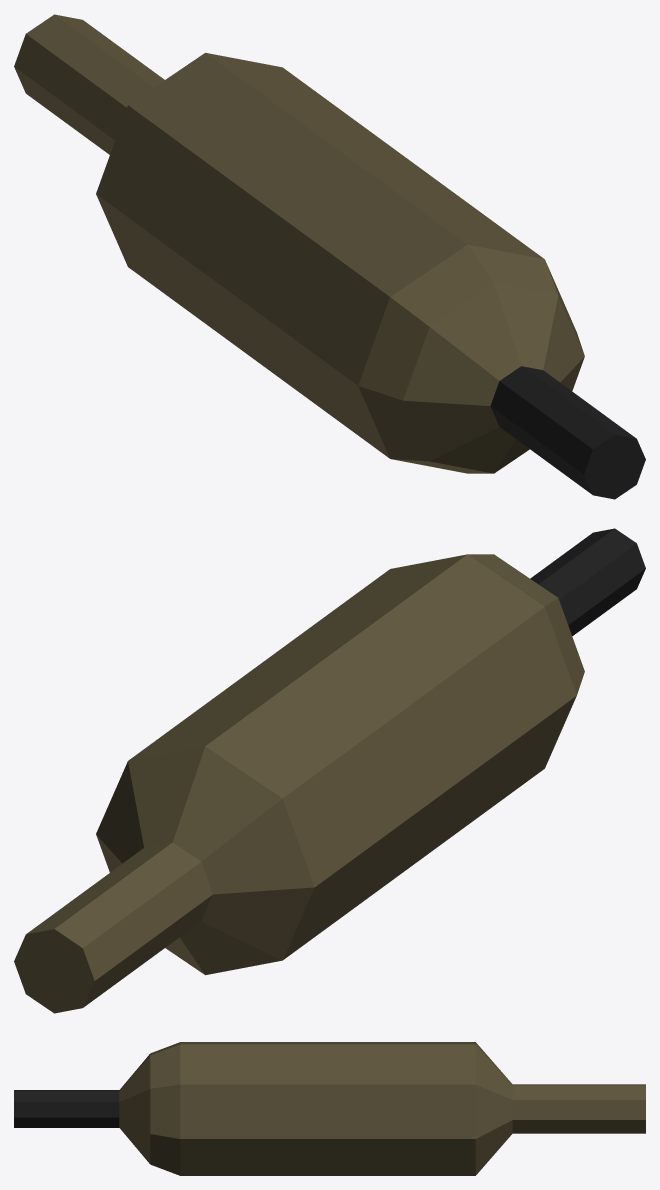
File: Lvl2_Kraken_Bullet_Model.fbx
3 renders of one model, top to bottom at view 1: azimuth 30°, elevation 25°; view 2: azimuth 150°, elevation 25°; view 3: azimuth 270°, elevation 25°, orthographic. The views are drawn at different scales.
Parts seen in each view (by area): view 1: Cylinder.018; view 2: Cylinder.018; view 3: Cylinder.018.
Part boxes in pixels (x1,y1,x2,y2): Cylinder.018: (14,14,645,499); Cylinder.018: (14,528,645,1013); Cylinder.018: (14,1042,645,1175).
Bounding box in the file's own units: 24.11 × 24.11 × 107.
